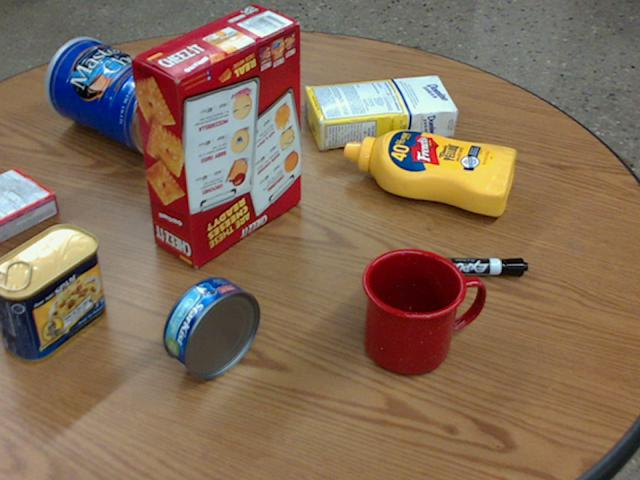cracker_box: (130, 7, 300, 268)
gelatin_box: (0, 168, 59, 243)
large_marker: (409, 257, 528, 275)
master_chef_can: (43, 37, 191, 157)
mug: (363, 248, 483, 375)
mustard_bottle: (343, 131, 516, 214)
potted_meat_can: (0, 224, 104, 364)
sugar_box: (304, 73, 459, 149)
tomato_soup_can: (213, 16, 267, 113)
tuna_fish_can: (163, 277, 260, 379)
